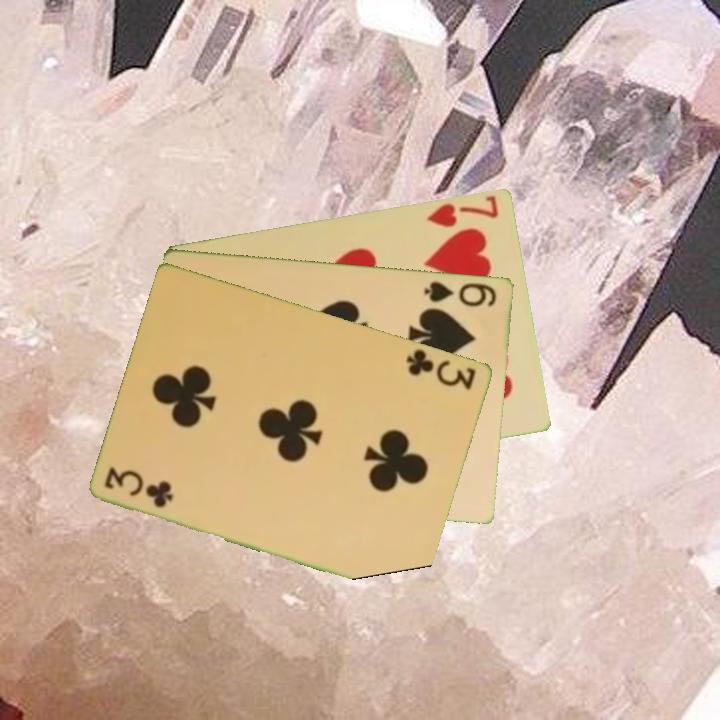3c: (403, 345, 480, 393), (101, 464, 177, 511)
6s: (421, 278, 500, 310)
7h: (423, 192, 502, 230)
